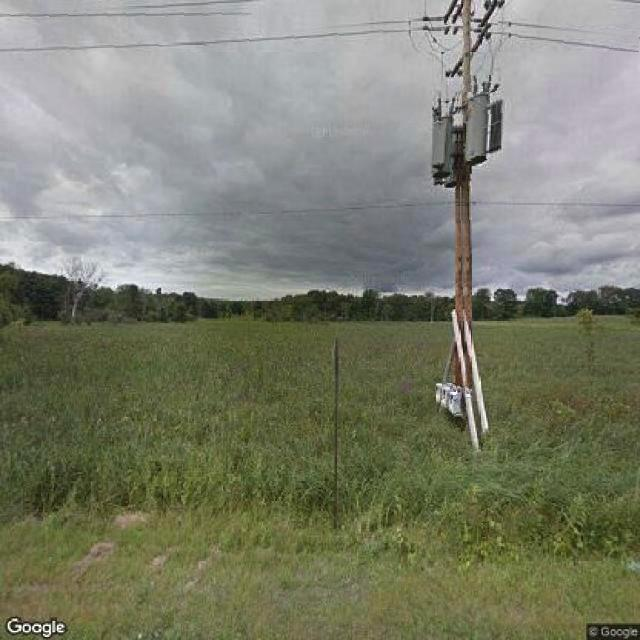crossarm: (450, 3, 498, 75), (444, 0, 465, 24)
pole: (462, 0, 472, 395)
transformer: (464, 92, 504, 166), (430, 102, 458, 188), (437, 383, 464, 415)
wire: (2, 25, 639, 52), (0, 10, 252, 17)
